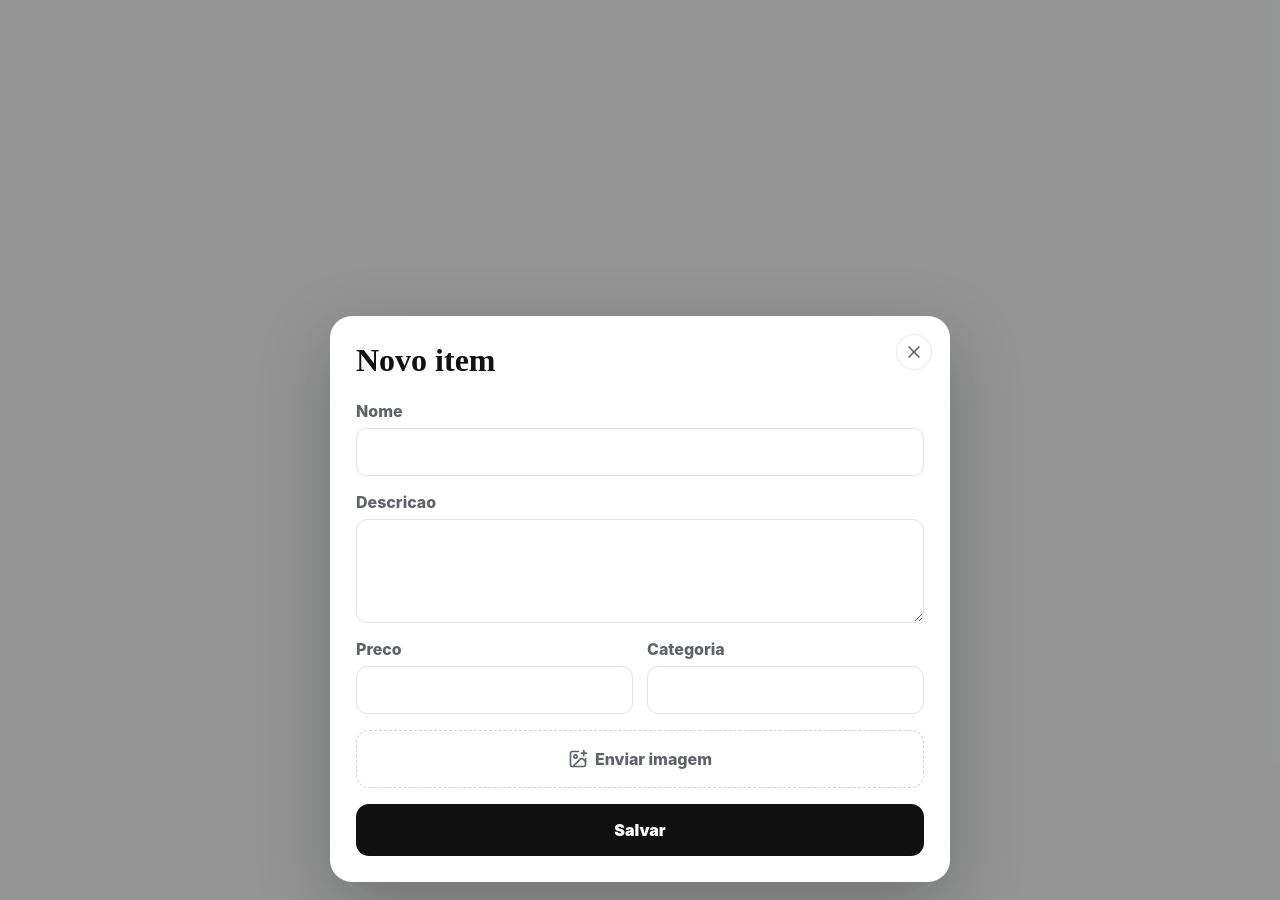
Test: ProductEditorModal accessibility and dismiss behavior › renders form errors with role alert
Type "Suco" into the field named "nome" at (640, 452), box [356, 428, 924, 476]
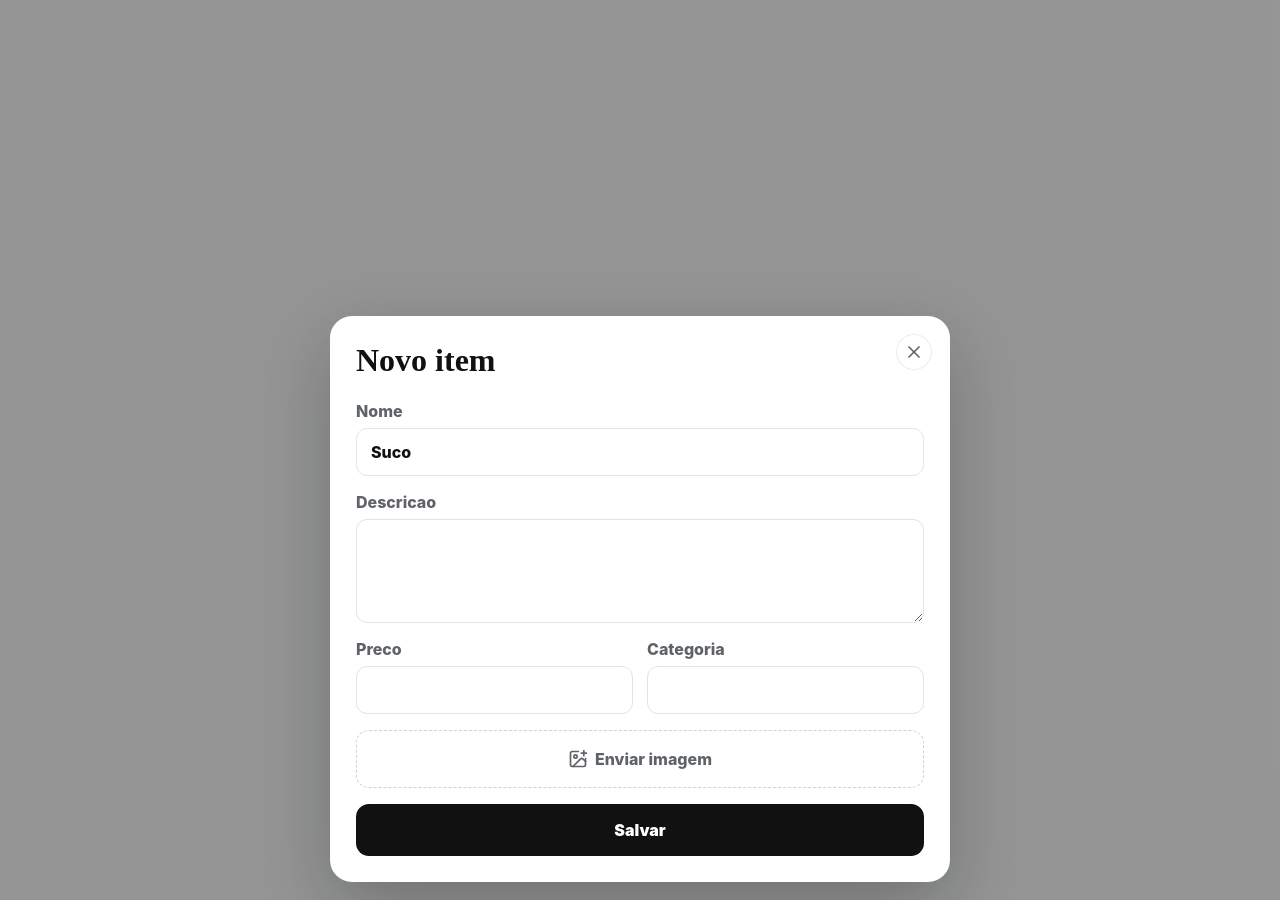
Type "Suco natural" into the text box named "descricao" at (640, 571), box [356, 519, 924, 623]
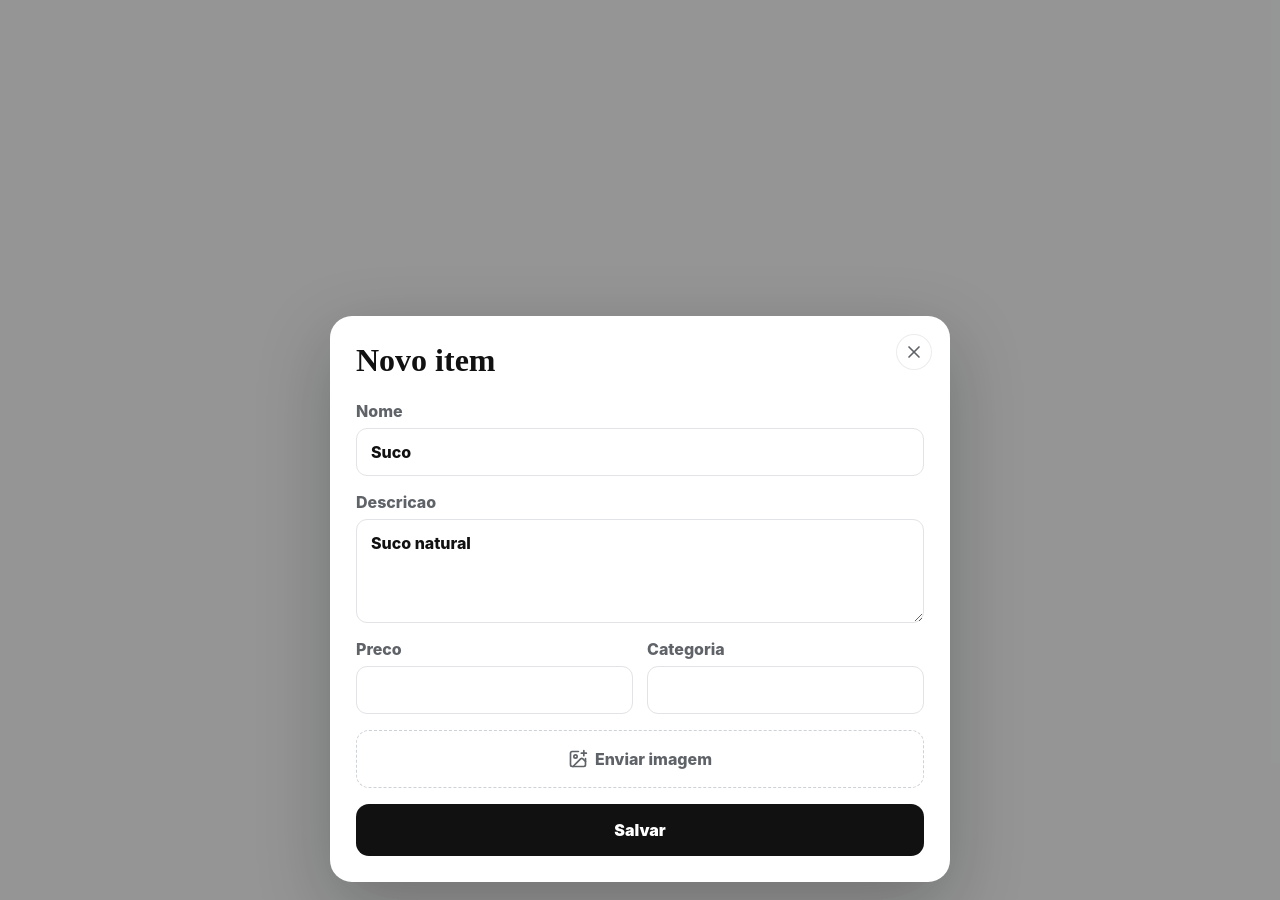
Type "10" into the field named "preco" at (494, 690), box [356, 666, 633, 714]
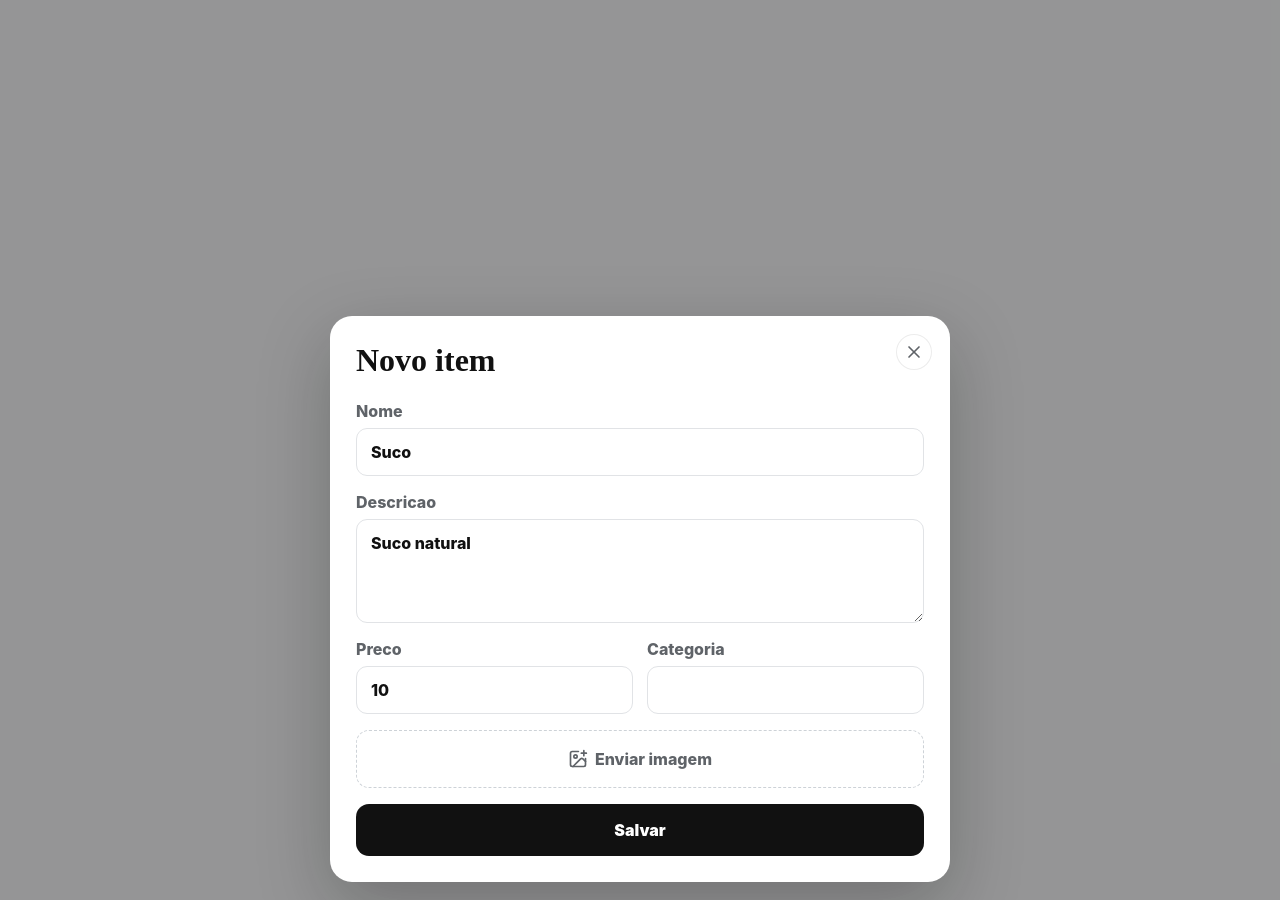
Type "Bebidas" into the field named "categoria" at (786, 690), box [647, 666, 924, 714]
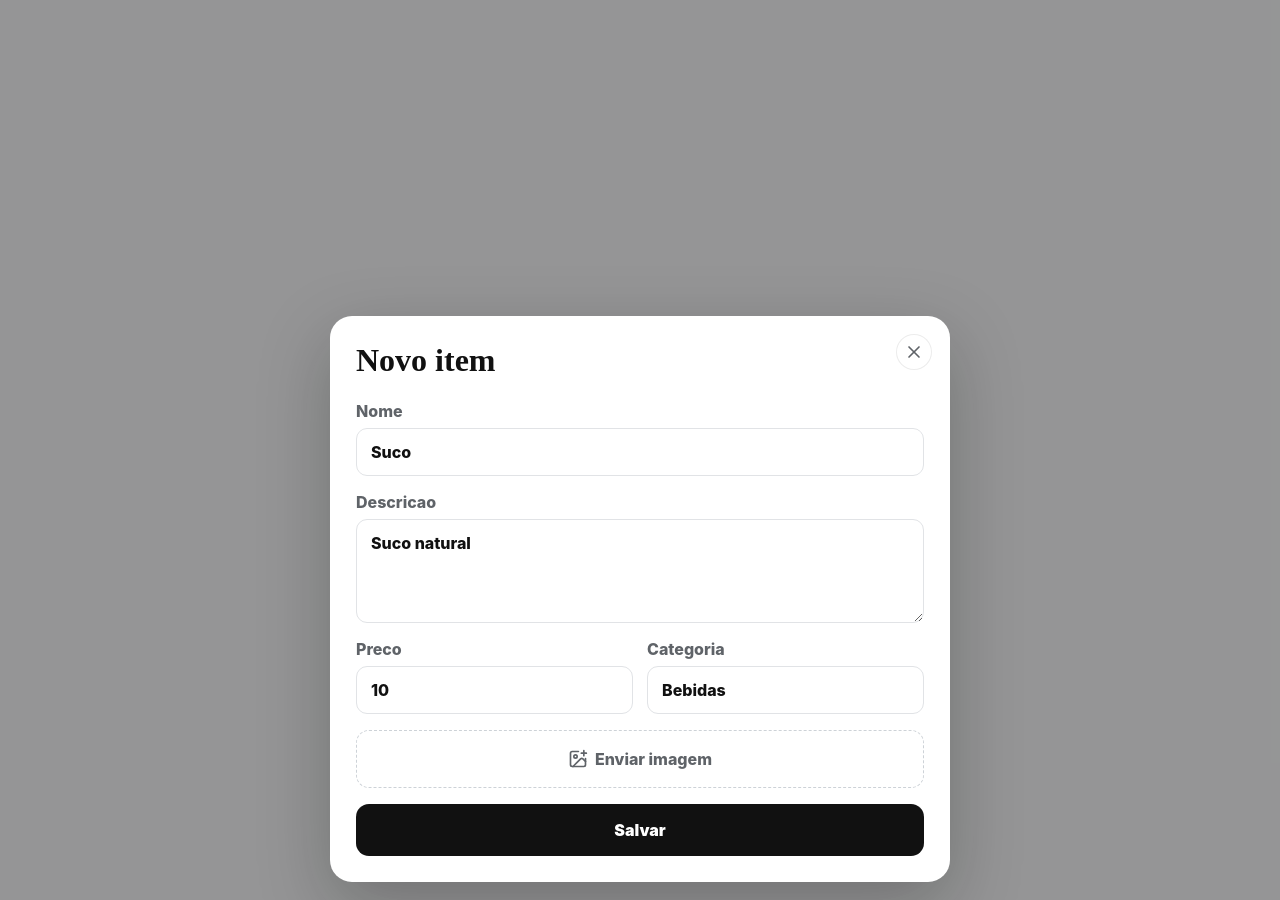
Submit the form, box [356, 401, 924, 856]
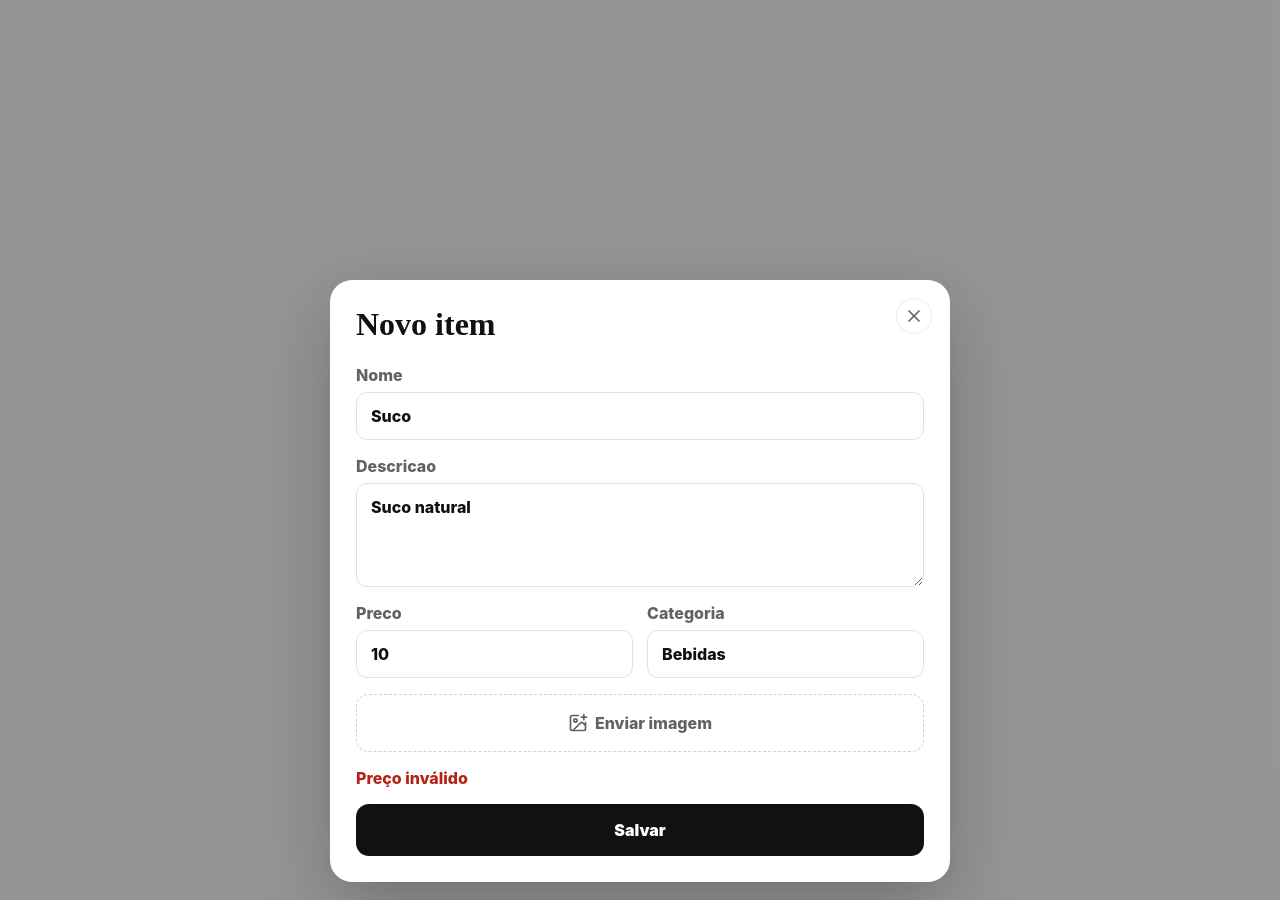
Result: the message reads "Preço inválido" at [356, 768, 468, 788]
